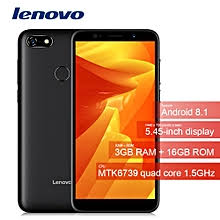lenovo: (68, 28, 160, 213)
